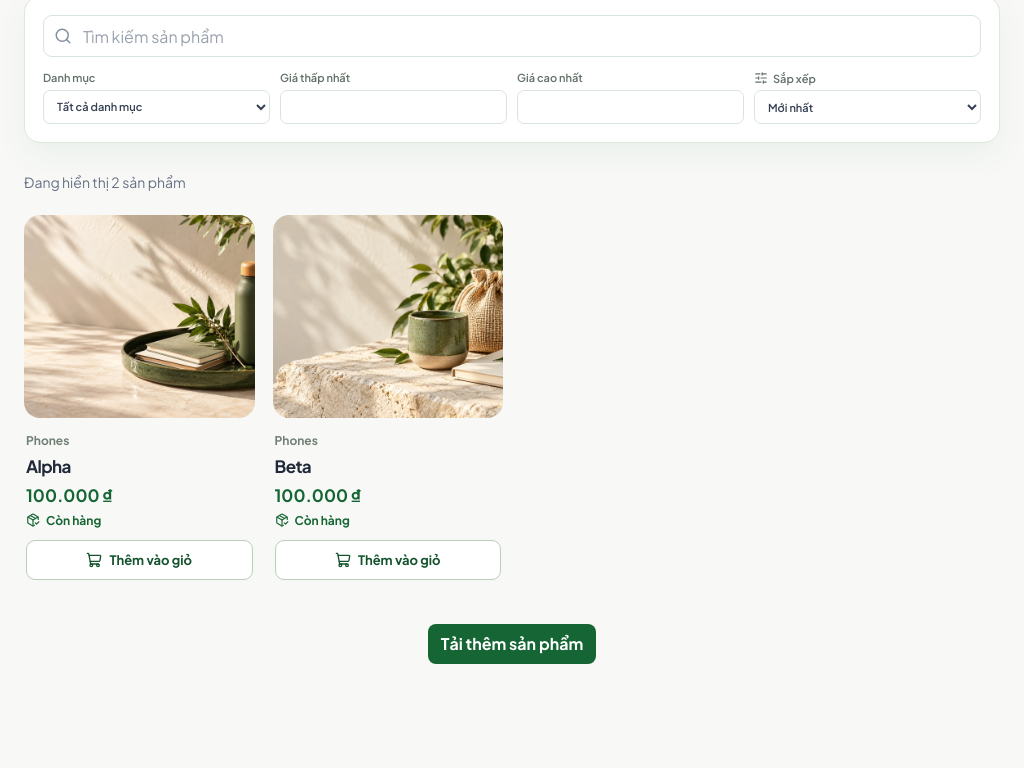
Test case: StorefrontShopPage: default order uses the cursor API › loads the first page, appends the next one with the server's cursor, then reports the end
The width and height of the screenshot is (1024, 768).
(page scrolled)
Check: the link "Alpha" is shown, box [26, 455, 71, 477]
Check: the text "Đang hiển thị 2 sản phẩm" is shown, box [24, 173, 186, 191]
Click the button "Tải thêm sản phẩm" at (512, 644), box [428, 624, 596, 664]
(page scrolled)
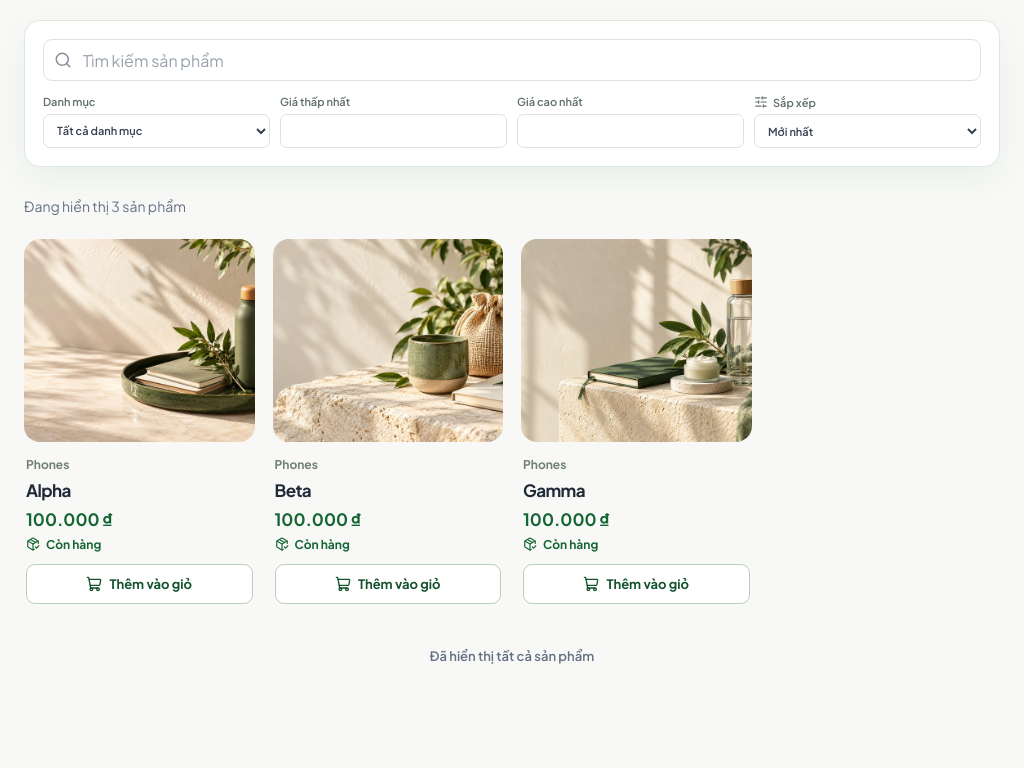
Check: the link "Gamma" is shown, box [523, 479, 585, 501]
Check: the text "Đang hiển thị 3 sản phẩm" is shown, box [24, 197, 186, 215]
Check: the button "Tải thêm sản phẩm" is gone
